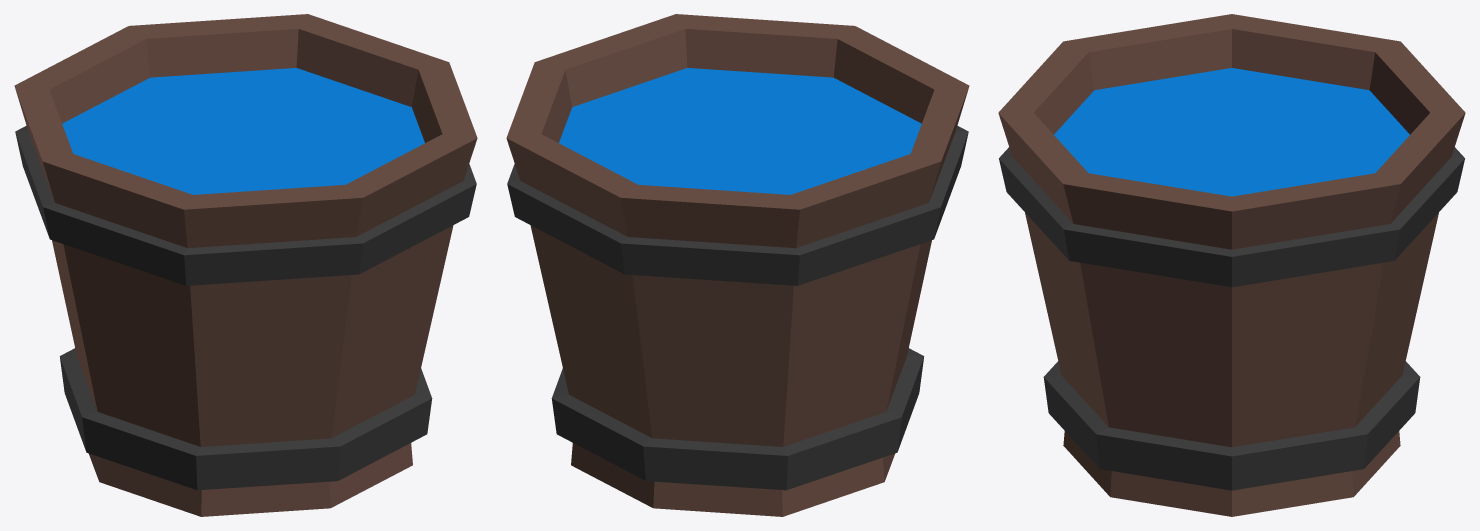
Rendered from BucketOfWater.fbx.
3 renders of one model, left to right at view 1: azimuth 30°, elevation 25°; view 2: azimuth 150°, elevation 25°; view 3: azimuth 270°, elevation 25°, orthographic.
Visible parts, largest first — view 1: Bucket; view 2: Bucket; view 3: Bucket.
Part boxes in pixels (<box>): Bucket: <box>14,14,477,516</box>; Bucket: <box>506,14,969,516</box>; Bucket: <box>998,14,1465,516</box>.
Size of the model in its own units: 60.45 by 47.52 by 60.45.
